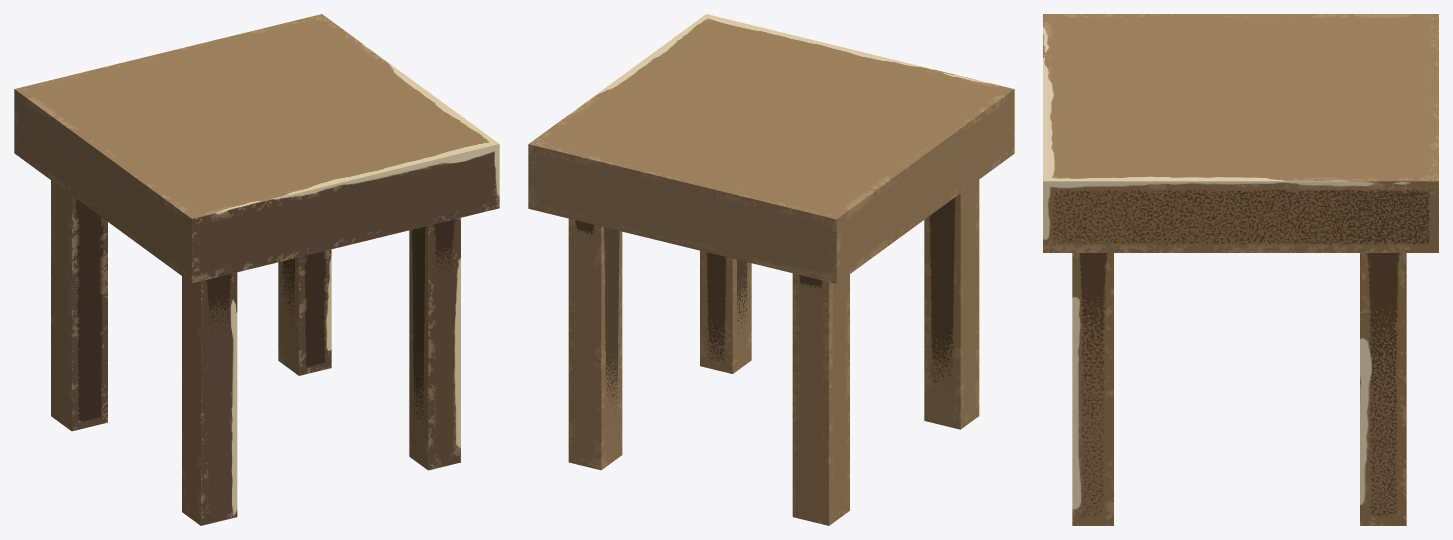
Rendered from Level3_Moving2.fbx.
The picture shows the model from 3 angles, left to right: view 1: azimuth 30°, elevation 25°; view 2: azimuth 150°, elevation 25°; view 3: azimuth 270°, elevation 25°; orthographic projection. The views are drawn at different scales.
Visible parts, largest first — view 1: Level3_ForSP:MovingPlatform2; view 2: Level3_ForSP:MovingPlatform2; view 3: Level3_ForSP:MovingPlatform2.
Part boxes in pixels (box(x1,y1,x2,y2)): Level3_ForSP:MovingPlatform2: box(14, 14, 499, 525); Level3_ForSP:MovingPlatform2: box(528, 14, 1014, 525); Level3_ForSP:MovingPlatform2: box(1043, 14, 1438, 525).
Size of the model in its own units: 1 by 1 by 1.
Materials: 1 (1 with a texture image).
